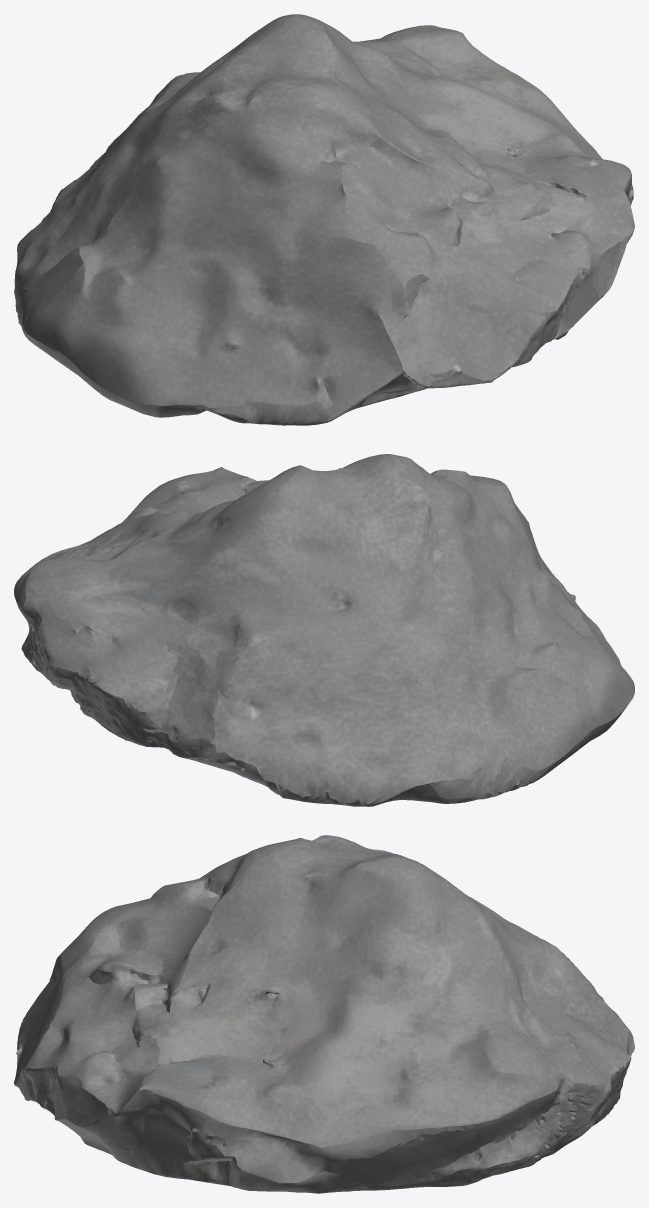
3 renders of one model, top to bottom at view 1: azimuth 30°, elevation 25°; view 2: azimuth 150°, elevation 25°; view 3: azimuth 270°, elevation 25°, orthographic. The views are drawn at different scales.
Visible parts, largest first — view 1: world; view 2: world; view 3: world.
Part boxes in pixels (box(x1,y1,x2,y2)): world: box(14, 14, 634, 425); world: box(14, 454, 634, 806); world: box(14, 835, 634, 1193).
Bounding box in the file's own units: 1.2 × 0.5578 × 1.2.
1 material, 1 textured.
